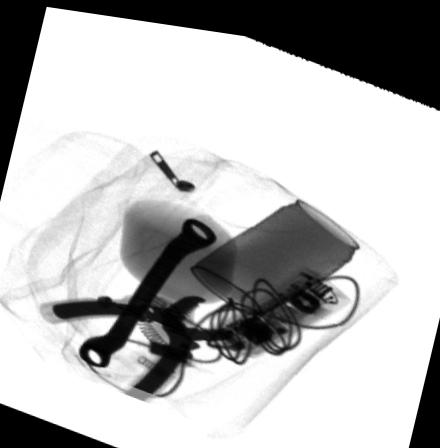Pliers: (40, 289, 242, 410)
Wrench: (79, 212, 217, 366)
